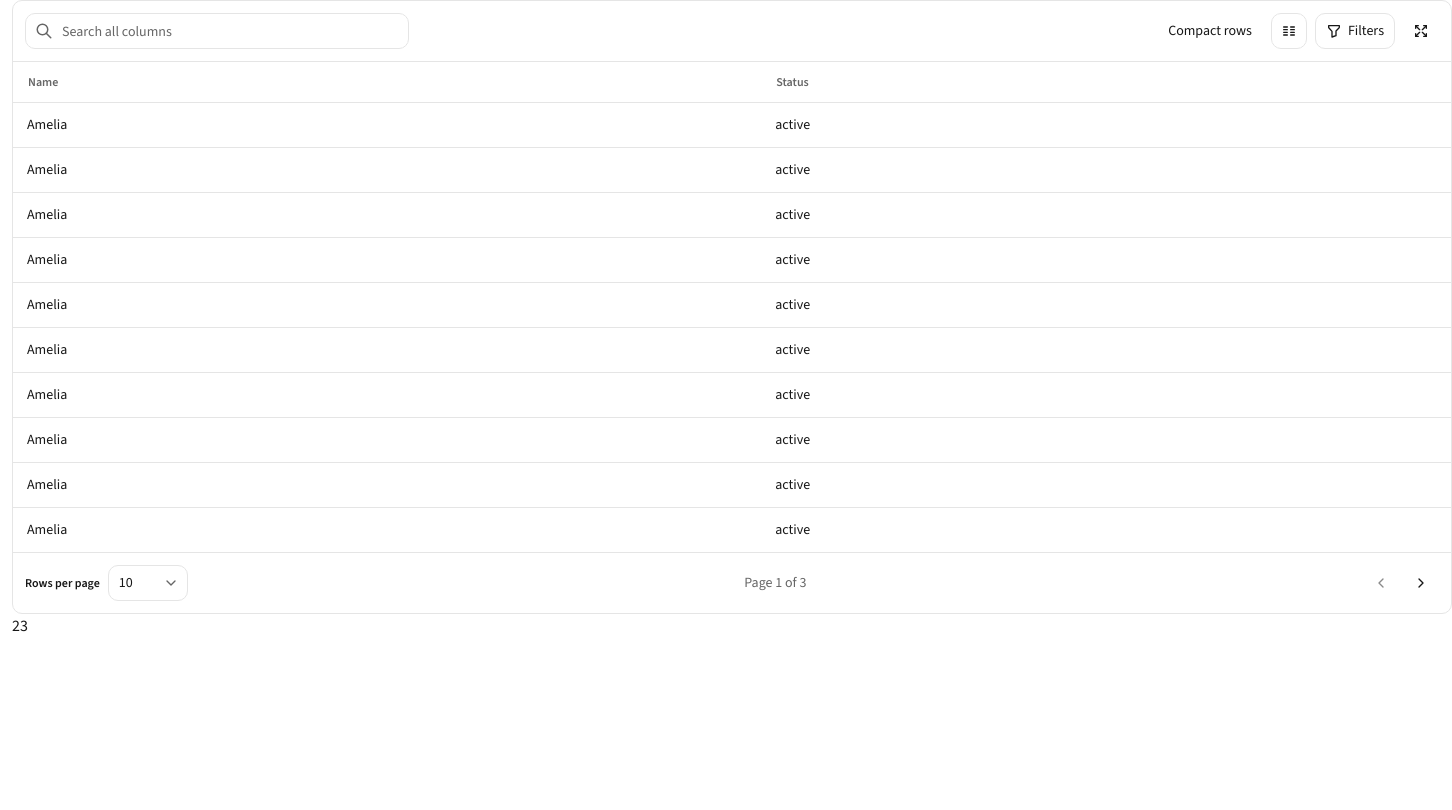
Scenario: summarises all filtered records independently of pagination
The image size is (1452, 810).
Expected: the text named "Summary count" reads "23", left=12, top=614, right=28, bottom=636
Click the button named "Next page" at (1421, 582), box left=1403, top=564, right=1439, bottom=600
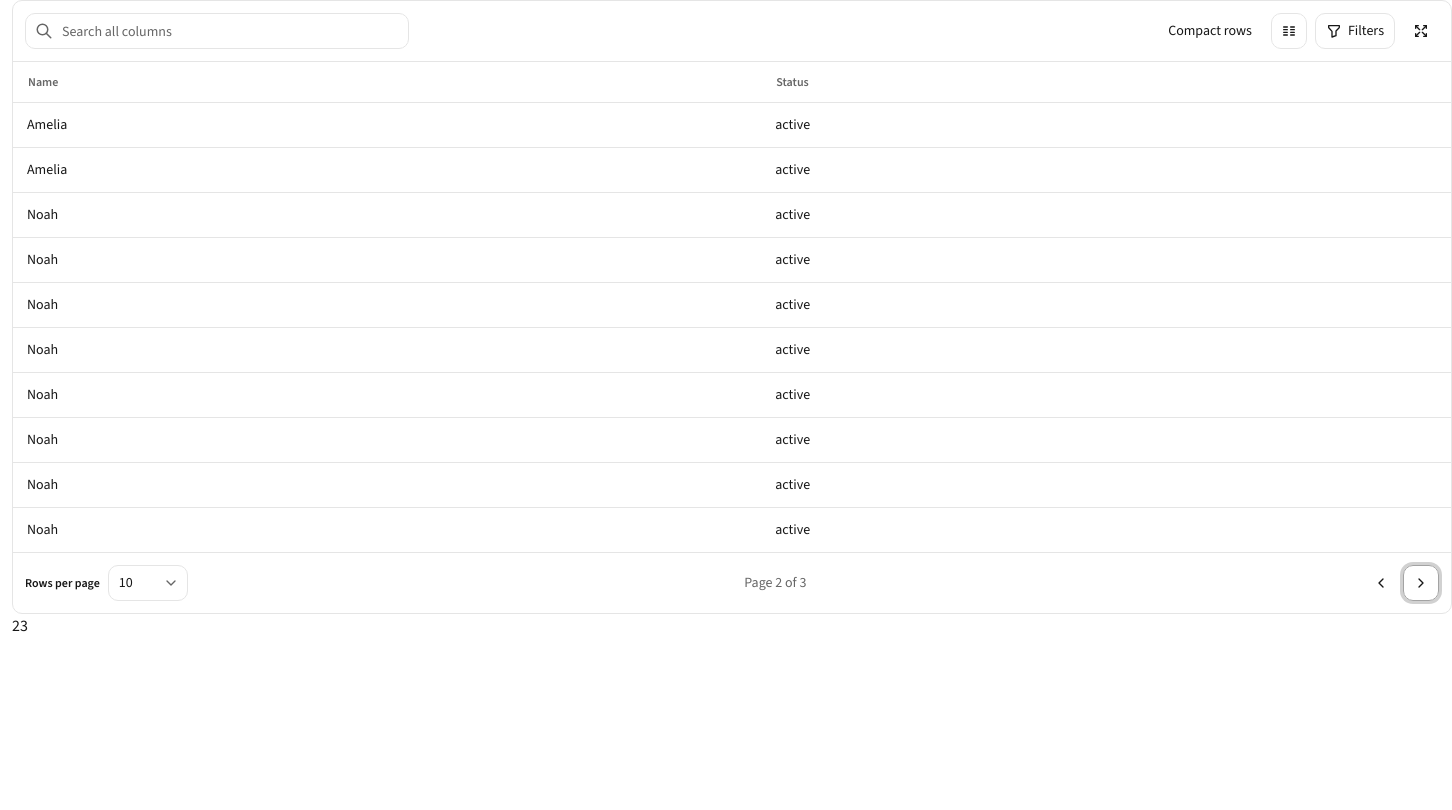
Expected: the text named "Summary count" reads "23", left=12, top=614, right=28, bottom=636
Type "Amelia" into the search field named "Search summary members" at (217, 31), box left=25, top=13, right=409, bottom=49
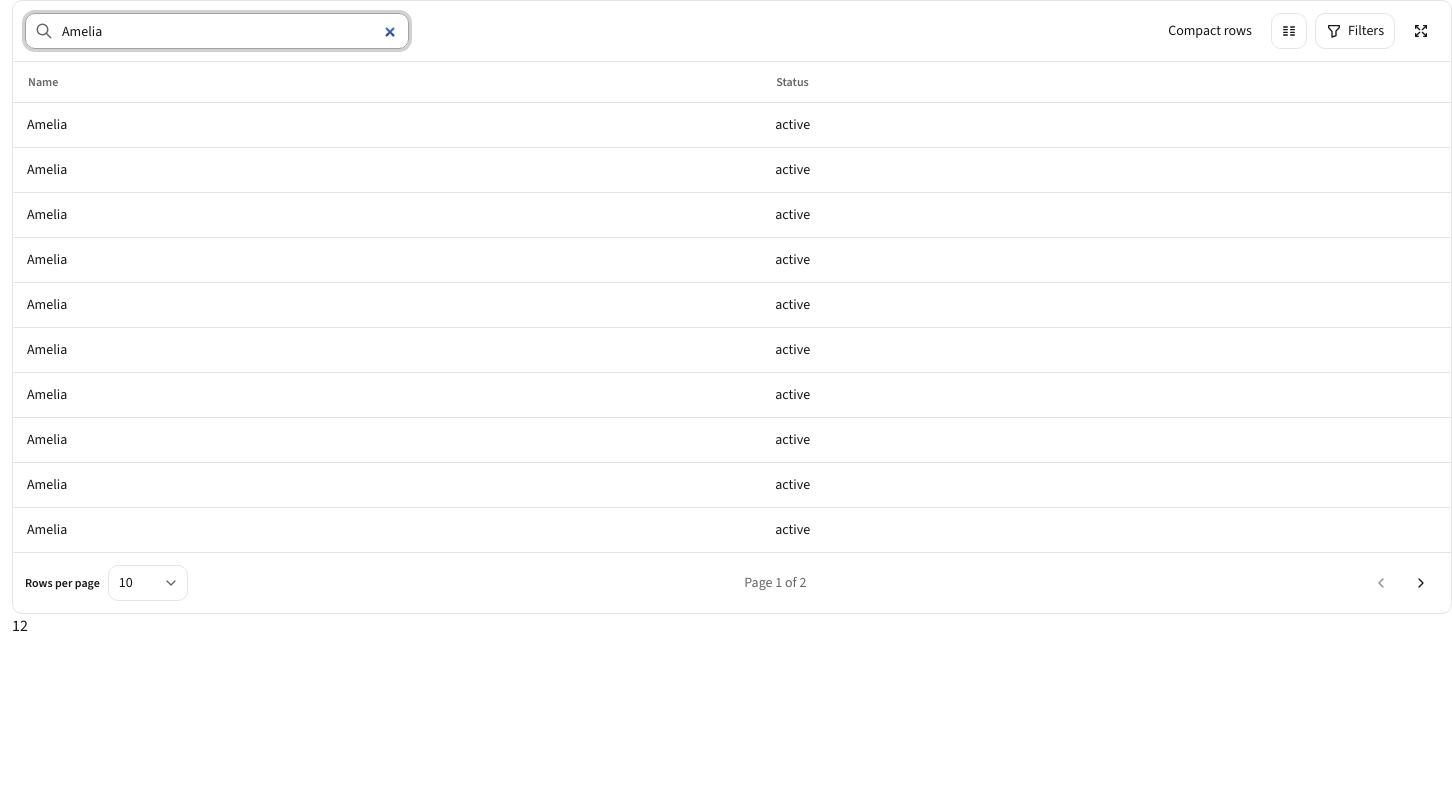
Expected: the text named "Summary count" reads "12", left=12, top=614, right=28, bottom=636
